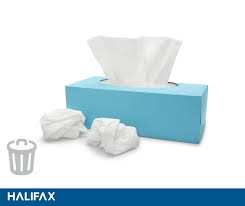paper: (52, 69, 222, 147), (84, 28, 188, 89), (81, 113, 142, 154), (34, 103, 91, 142)
